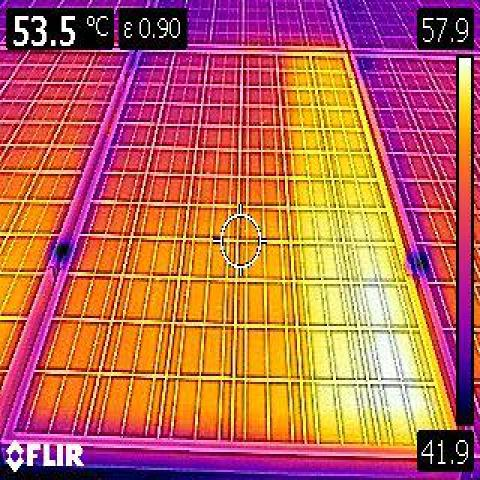fault: (274, 53, 462, 452)
